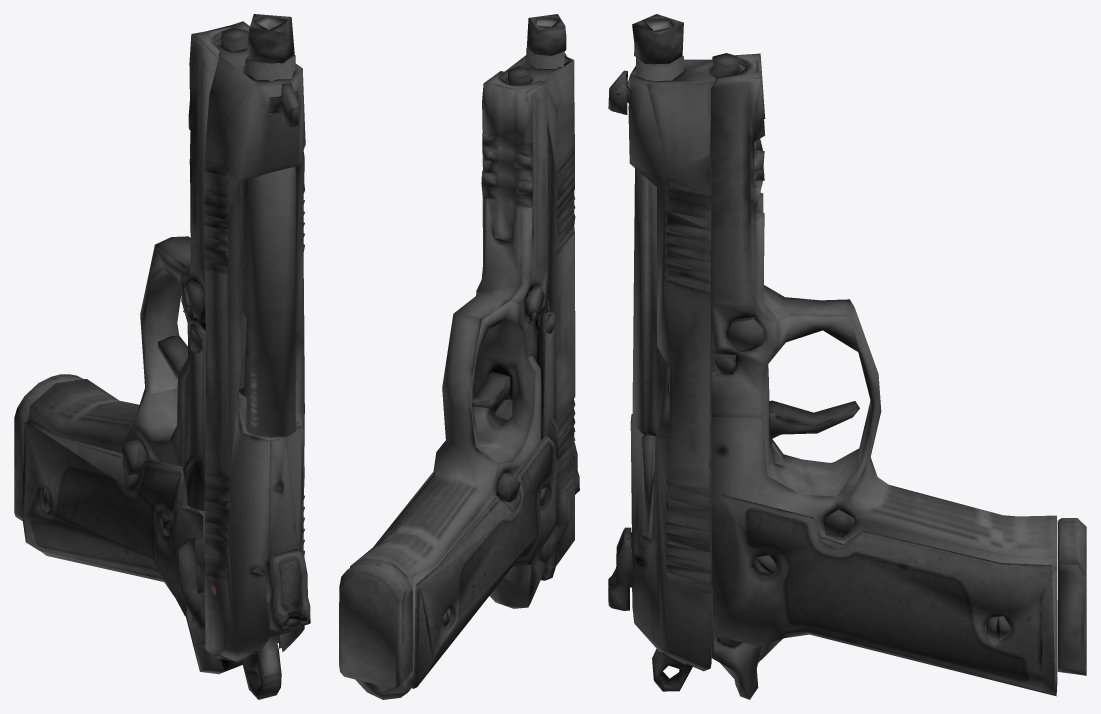
File: Handgun03.fbx
3 renders of one model, left to right at view 1: azimuth 30°, elevation 25°; view 2: azimuth 150°, elevation 25°; view 3: azimuth 270°, elevation 25°, orthographic. The views are drawn at different scales.
Parts seen in each view (by area): view 1: Handgun03; view 2: Handgun03; view 3: Handgun03.
Part boxes in pixels (box(x1,y1,x2,y2)): Handgun03: box(14, 14, 310, 699); Handgun03: box(339, 14, 579, 699); Handgun03: box(608, 14, 1086, 699).
Bounding box in the file's own units: 0.0307 × 0.1806 × 0.1167.
